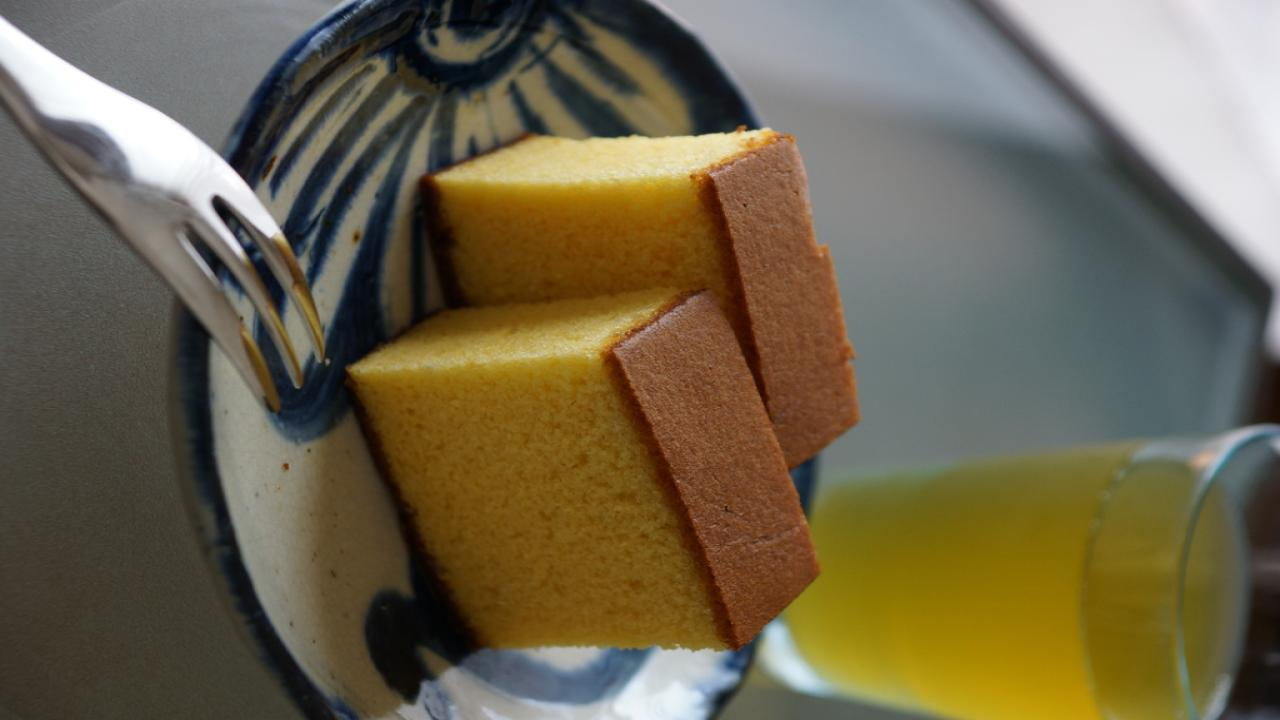fork: (0, 18, 332, 417)
